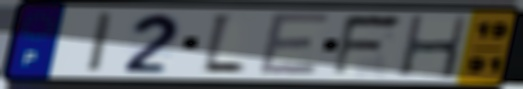2: (118, 9, 184, 76)
E: (255, 10, 334, 78)
F: (328, 14, 407, 79)
H: (396, 14, 470, 81)
I: (85, 10, 117, 74)
L: (198, 11, 249, 77)
